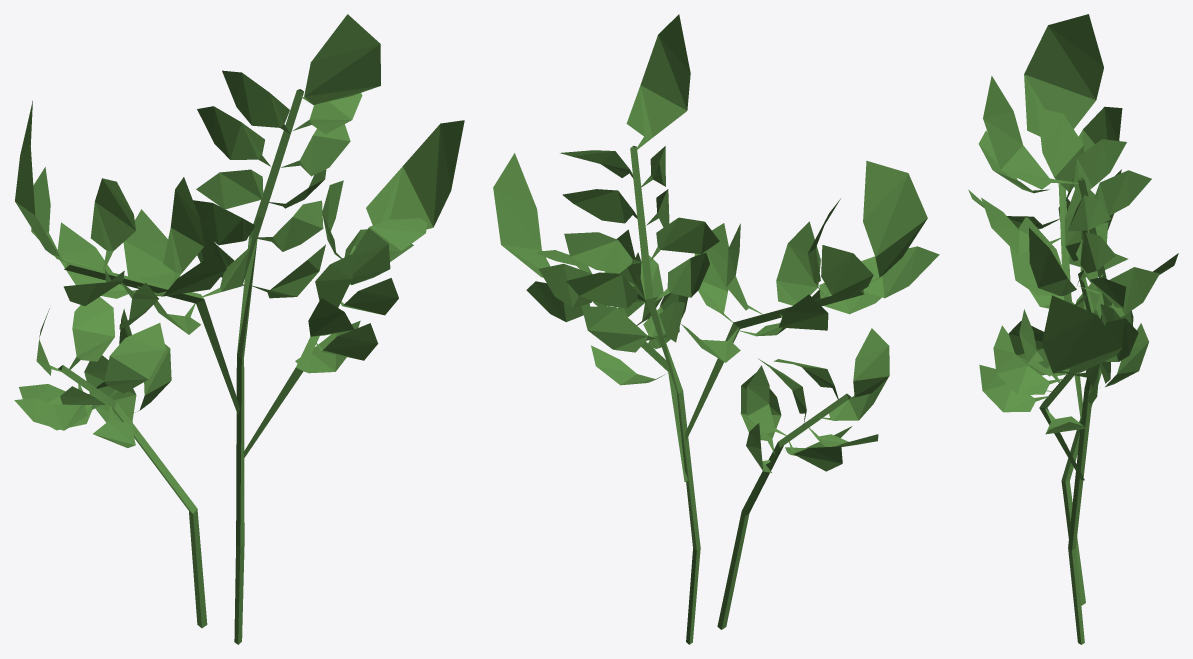
The model's file is Potato_2.fbx.
3 renders of one model, left to right at view 1: azimuth 30°, elevation 25°; view 2: azimuth 150°, elevation 25°; view 3: azimuth 270°, elevation 25°, orthographic. The views are drawn at different scales.
Parts seen in each view (by area): view 1: Potato_2; view 2: Potato_2; view 3: Potato_2.
Part boxes in pixels (x1=…): Potato_2: x1=14, y1=14, x2=464, y2=644; Potato_2: x1=493, y1=14, x2=939, y2=644; Potato_2: x1=968, y1=14, x2=1178, y2=644.
Size of the model in its own units: 67.9 by 94.85 by 30.43.
